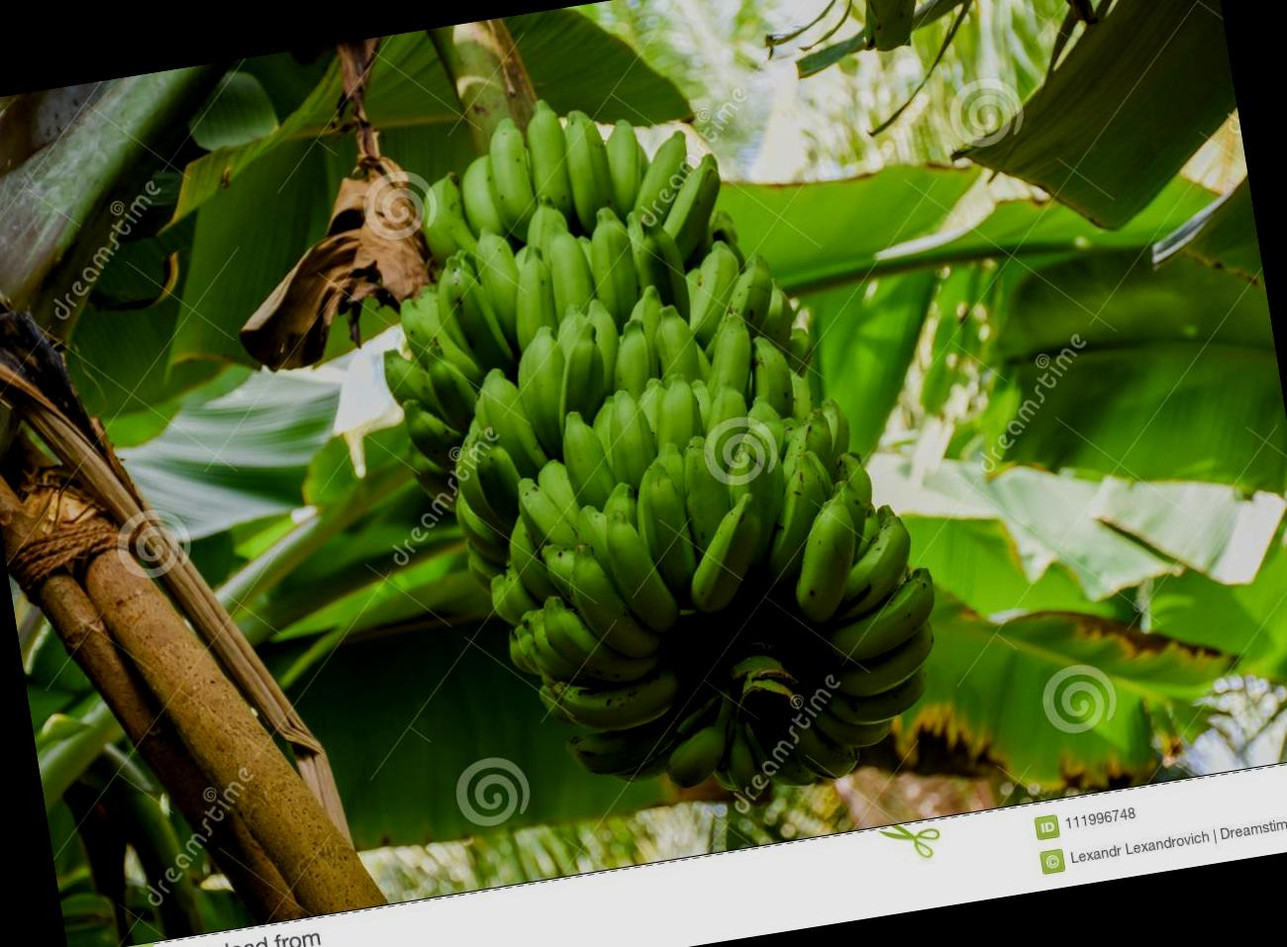Banana Unripe: (310, 20, 999, 911)
